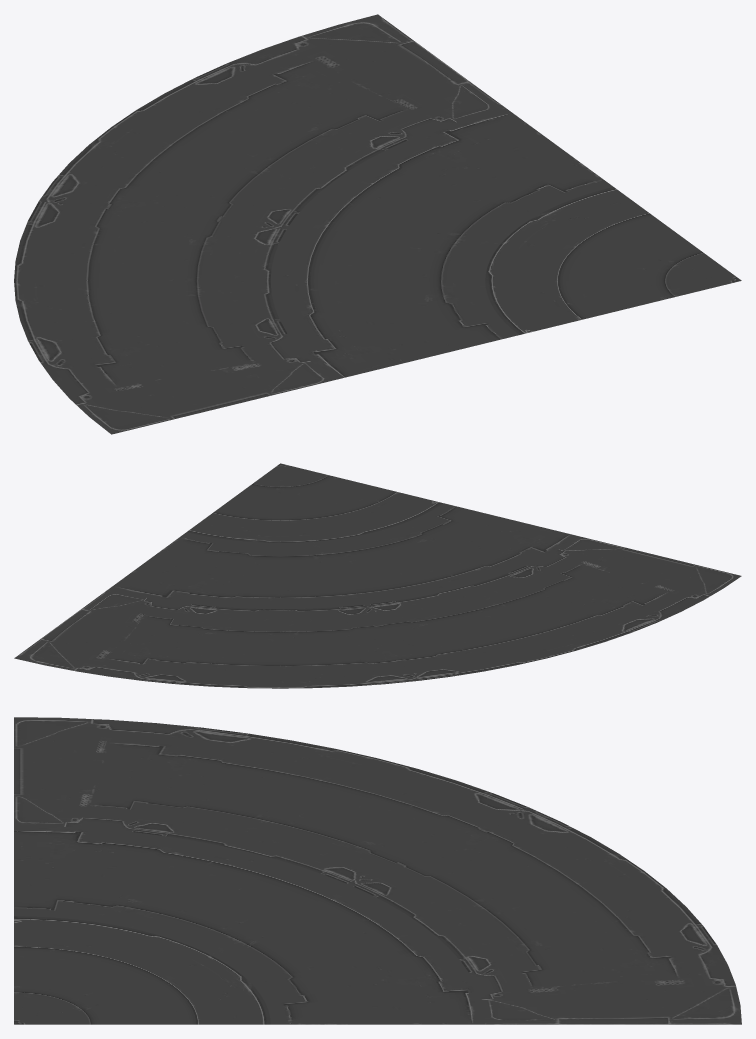
File: Platform_DarkPlates_Curves.glb
3 renders of one model, top to bottom at view 1: azimuth 30°, elevation 25°; view 2: azimuth 150°, elevation 25°; view 3: azimuth 270°, elevation 25°, orthographic. The views are drawn at different scales.
Visible parts, largest first — view 1: Platform_DarkPlates_Curves; view 2: Platform_DarkPlates_Curves; view 3: Platform_DarkPlates_Curves.
Part boxes in pixels (box(x1,y1,x2,y2)): Platform_DarkPlates_Curves: box(14, 14, 741, 434); Platform_DarkPlates_Curves: box(14, 463, 741, 688); Platform_DarkPlates_Curves: box(14, 717, 741, 1024).
Bounding box in the file's own units: 4 × 0 × 4.
Materials: 1 (1 with a texture image).
